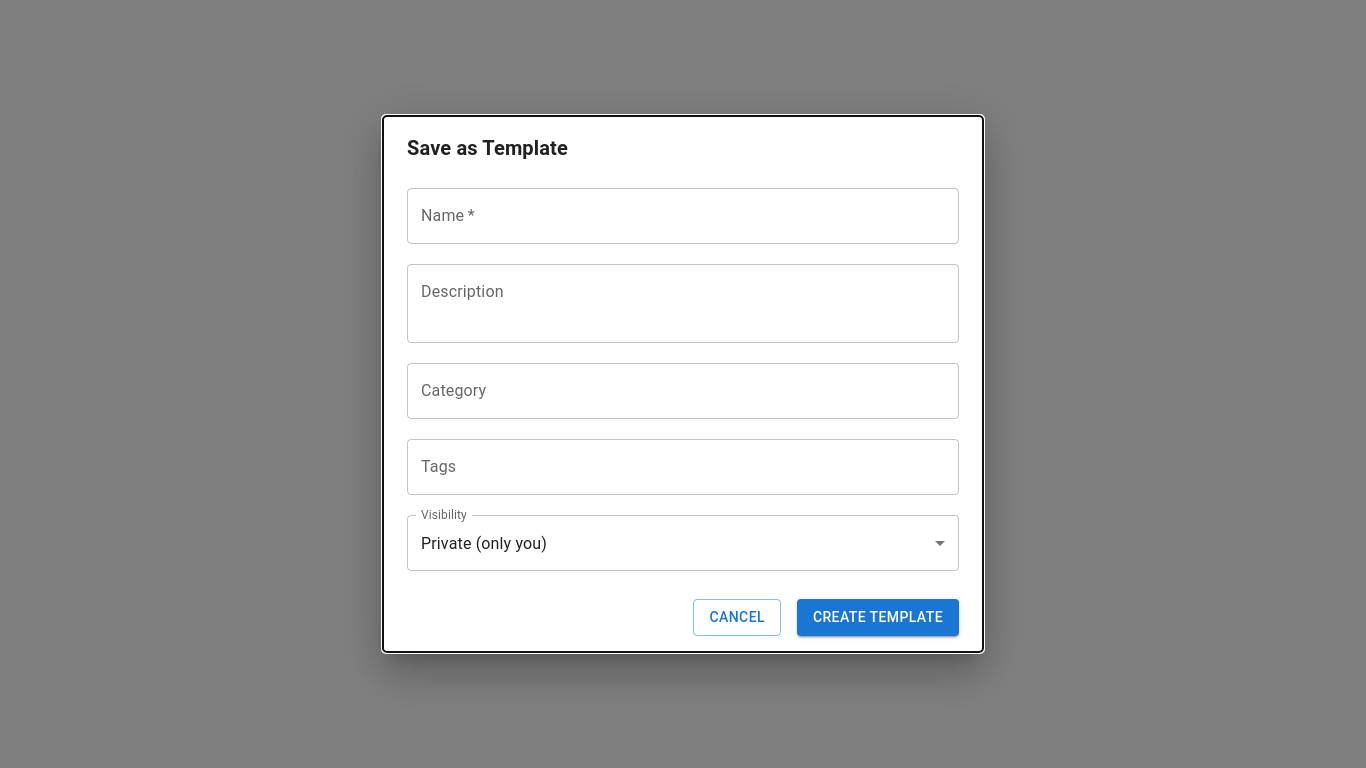
Test case: SaveAsTemplateModal › shows validation error when name cannot produce a template key
Type "---" into the field labelled "Name *" at coordinates (683, 216), box [407,188,959,244]
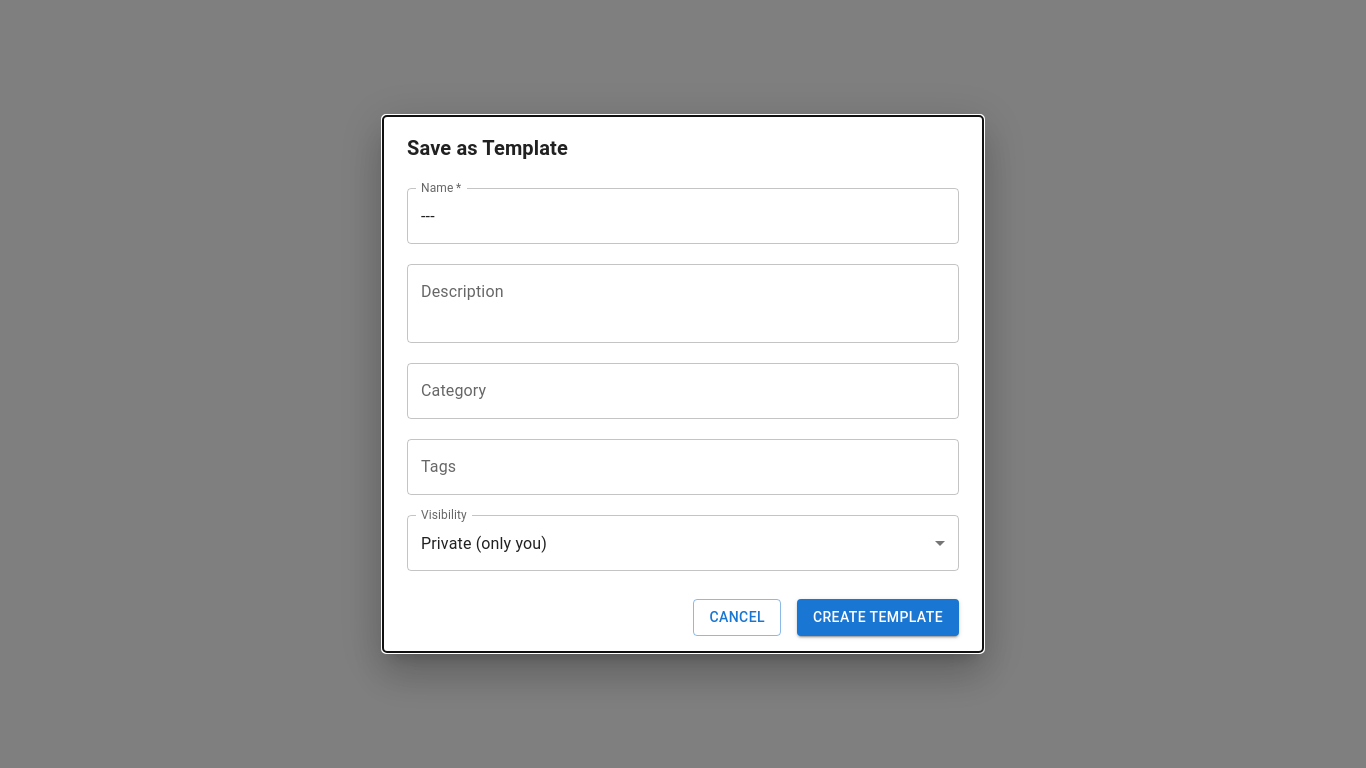
Click the button "Create Template" at coordinates (878, 618), box [797,599,959,636]
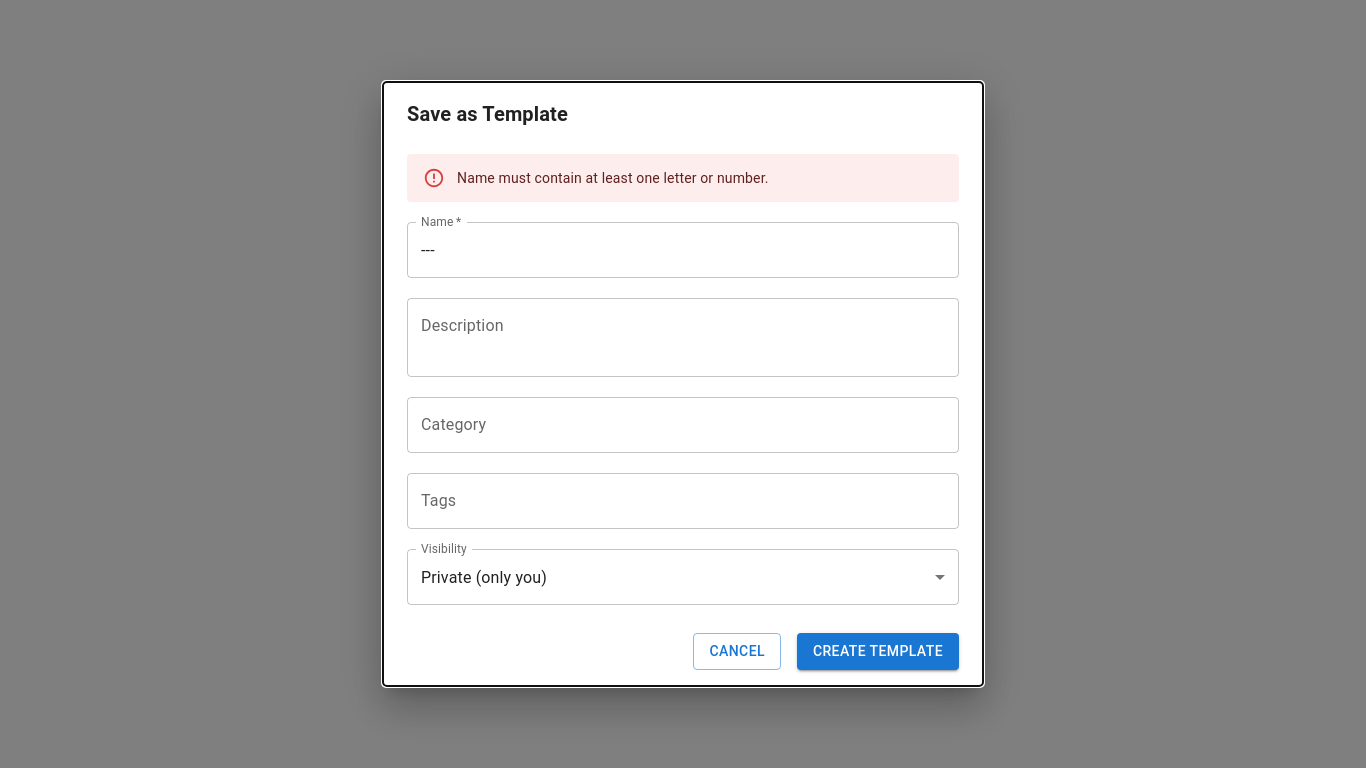
expect the text "Name must contain at least one letter or number." is shown: met, box [457,170,768,186]
